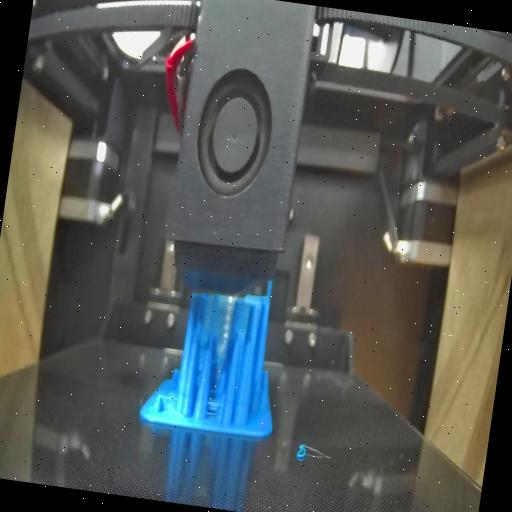stringing: (198, 294, 250, 350), (203, 396, 223, 423)
